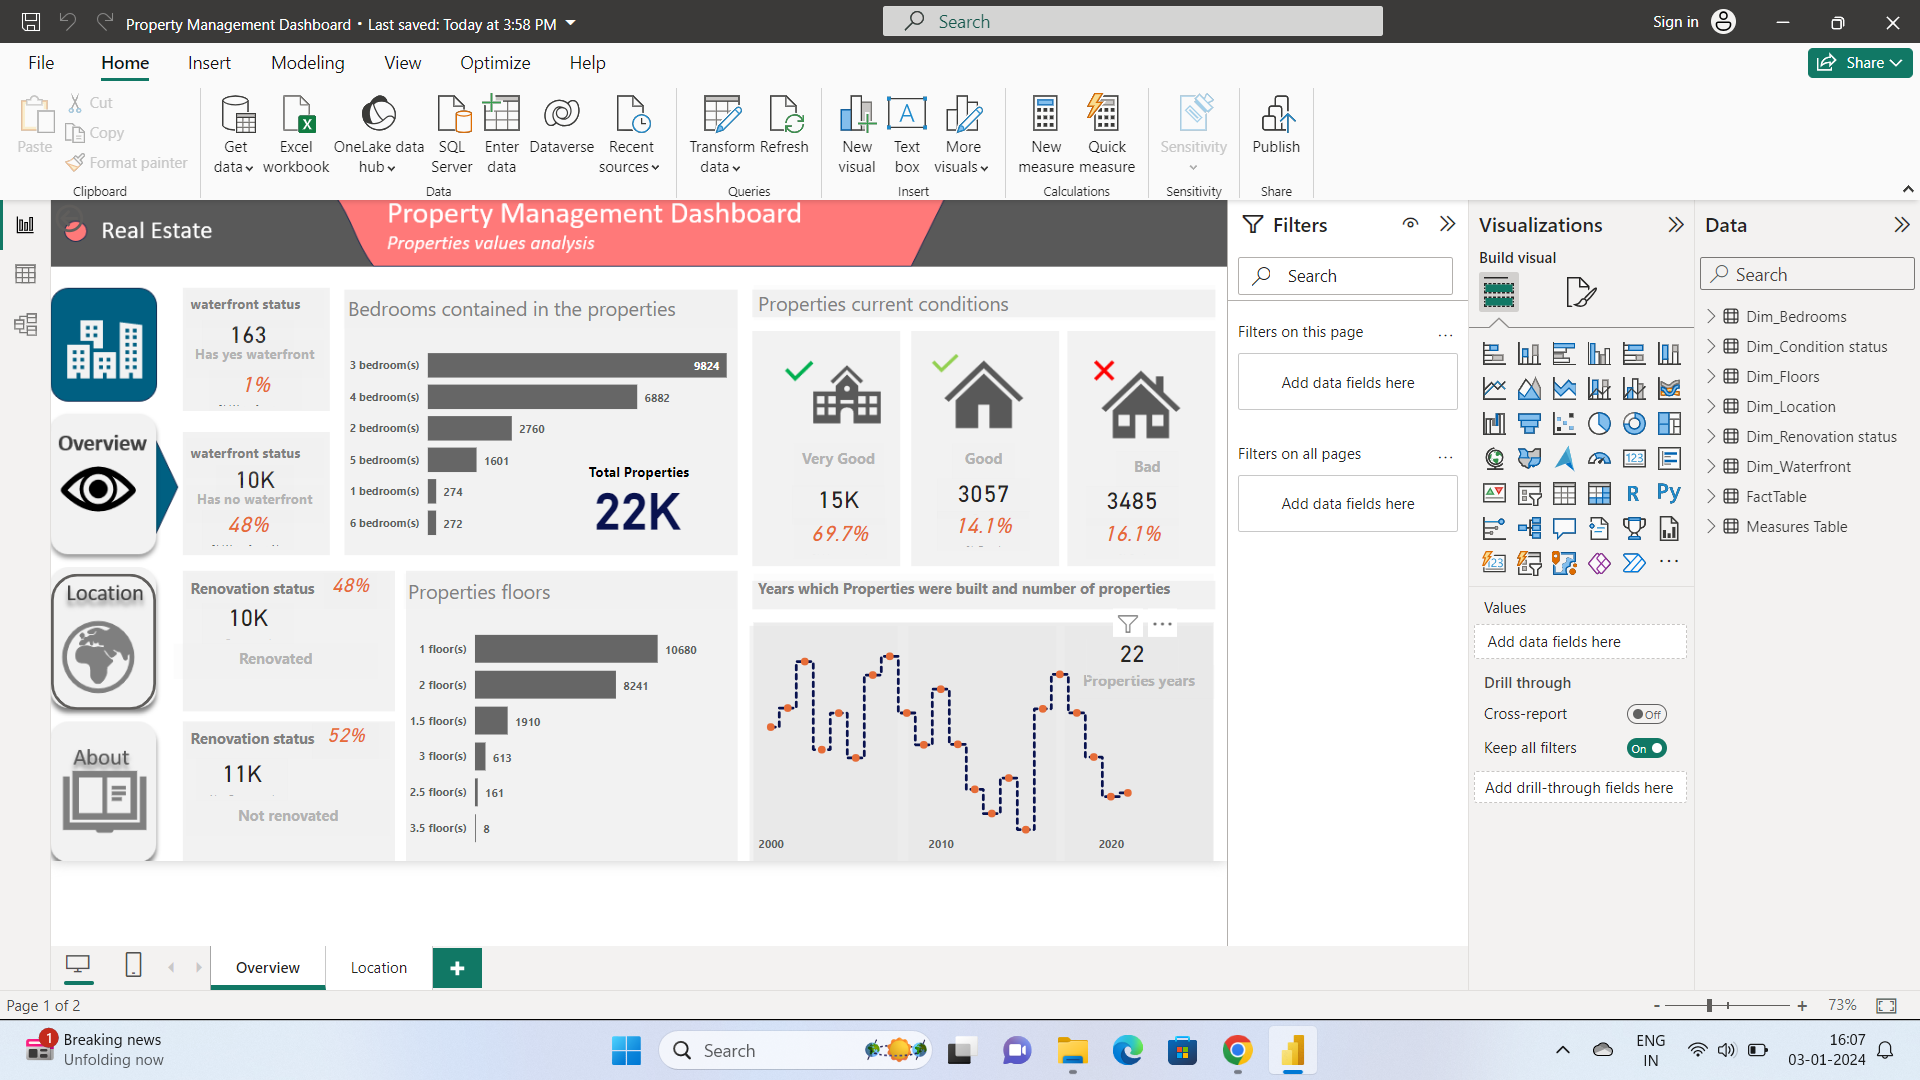

The page's visual inventory and layout, read from the dashboard file:
{"tool":"powerbi","page":{"name":"Overview","canvas":[1280,720],"ordinal":0},"visuals":[{"type":"textbox","box":[318.4,97.4,428.1,42.5],"z":0},{"type":"barChart","fields":{"Category":["Dim_Bedrooms.Bedrooms"],"Y":["Measures Table.Total Properties"]},"box":[318.4,140,428.1,244.3],"z":1000},{"type":"textbox","box":[569.5,279.9,140,30.2],"z":2000},{"type":"card","fields":{"Values":["Measures Table.Total Properties"]},"box":[550.3,279.9,177,104.3],"z":3000},{"type":"card","fields":{"Values":["Dim_Bedrooms.Waterfront yes"]},"box":[164.7,130.4,100.2,43.9],"z":4000},{"type":"actionButton","box":[0,0,100,40],"z":5000},{"type":"card","fields":{"Values":["Measures Table.Waterfront 2 yes"]},"box":[179.8,288.2,85.1,43.9],"z":6000},{"type":"textbox","box":[146.8,97.4,149.6,42.5],"z":7000},{"type":"textbox","box":[146.8,259.3,149.6,42.5],"z":8000},{"type":"textbox","box":[146.8,310.1,149.6,42.5],"z":9000},{"type":"textbox","box":[146.8,152.3,149.6,42.5],"z":10000},{"type":"card","fields":{"Values":["Measures Table.% Waterfront yes"]},"box":[172.9,185.2,100.2,43.9],"z":11000},{"type":"card","fields":{"Values":["Measures Table.% Waterfront No"]},"box":[164.7,337.6,100.2,43.9],"z":12000},{"type":"textbox","box":[146.8,406.2,222.3,38.4],"z":13000},{"type":"textbox","box":[146.8,569.5,222.3,38.4],"z":14000},{"type":"textbox","box":[133.1,483,222.3,38.4],"z":15000},{"type":"textbox","box":[146.8,653.2,222.3,38.4],"z":16000},{"type":"card","fields":{"Values":["Measures Table.Renovated"]},"box":[164.7,437.7,100.2,45.3],"z":17000},{"type":"card","fields":{"Values":["Measures Table.Not Renovated"]},"box":[157.8,607.9,100.2,45.3],"z":18000},{"type":"card","fields":{"Values":["Measures Table.% Renovated"]},"box":[296.4,406.2,59,38.4],"z":19000},{"type":"card","fields":{"Values":["Measures Table.% Not Renovated"]},"box":[284,569.5,72.7,38.4],"z":20000},{"type":"textbox","box":[384.2,406.2,362.3,38.4],"z":21000},{"type":"barChart","fields":{"Y":["Measures Table.Total Properties"],"Category":["Dim_Floors.Floors"]},"box":[384.2,444.6,362.3,275.8],"z":22000},{"type":"textbox","box":[764.3,91.9,502.2,38.4],"z":23000},{"type":"textbox","box":[808.2,265.3,98,46.3],"z":24000},{"type":"textbox","box":[981,265.3,68,38.1],"z":25000},{"type":"textbox","box":[1159.2,273.5,68,38.1],"z":26000},{"type":"card","fields":{"Values":["Measures Table.Very good"]},"box":[806.8,310.2,100.7,43.5],"z":27000},{"type":"card","fields":{"Values":["Measures Table.Bad"]},"box":[1126.5,311.6,100.7,43.5],"z":28000},{"type":"card","fields":{"Values":["Measures Table.Good"]},"box":[964.6,303.4,100.7,43.5],"z":29000},{"type":"card","fields":{"Values":["Measures Table.% Very good"]},"box":[808.2,346.9,100.7,43.5],"z":30000},{"type":"card","fields":{"Values":["Measures Table.% Good"]},"box":[964.6,338.8,100.7,43.5],"z":31000},{"type":"card","fields":{"Values":["Measures Table.% Bad"]},"box":[1126.5,346.9,100.7,43.5],"z":32000},{"type":"textbox","box":[764.6,406.8,500.7,38.1],"z":33000},{"type":"lineChart","fields":{"Y":["Measures Table.Total Properties"],"Category":["FactTable.yr_built"]},"box":[764.6,459.9,500.7,259.9],"z":34000},{"type":"textbox","box":[1118.4,506.1,148.3,36.7],"z":35000},{"type":"card","fields":{"Values":["Measures Table.Properties years"]},"box":[1126.5,477.6,100.7,43.5],"z":36000},{"type":"actionButton","box":[0,406.8,114.3,148.3],"z":36002}]}

Visuals, with their boxes on the page's 1280x720 design canvas (x1, y1, x2, y2). These are canvas units, not pixel positions in the 1920x1080 screenshot, which may show the page scaled, cropped or inside an application window:
textbox: pyautogui.locateOnScreen(318, 97, 746, 140)
barChart - Dim_Bedrooms.Bedrooms x Measures Table.Total Properties: pyautogui.locateOnScreen(318, 140, 746, 384)
textbox: pyautogui.locateOnScreen(570, 280, 710, 310)
card - Measures Table.Total Properties: pyautogui.locateOnScreen(550, 280, 727, 384)
card - Dim_Bedrooms.Waterfront yes: pyautogui.locateOnScreen(165, 130, 265, 174)
actionButton: pyautogui.locateOnScreen(0, 0, 100, 40)
card - Measures Table.Waterfront 2 yes: pyautogui.locateOnScreen(180, 288, 265, 332)
textbox: pyautogui.locateOnScreen(147, 97, 296, 140)
textbox: pyautogui.locateOnScreen(147, 259, 296, 302)
textbox: pyautogui.locateOnScreen(147, 310, 296, 353)
textbox: pyautogui.locateOnScreen(147, 152, 296, 195)
card - Measures Table.% Waterfront yes: pyautogui.locateOnScreen(173, 185, 273, 229)
card - Measures Table.% Waterfront No: pyautogui.locateOnScreen(165, 338, 265, 382)
textbox: pyautogui.locateOnScreen(147, 406, 369, 445)
textbox: pyautogui.locateOnScreen(147, 570, 369, 608)
textbox: pyautogui.locateOnScreen(133, 483, 355, 521)
textbox: pyautogui.locateOnScreen(147, 653, 369, 692)
card - Measures Table.Renovated: pyautogui.locateOnScreen(165, 438, 265, 483)
card - Measures Table.Not Renovated: pyautogui.locateOnScreen(158, 608, 258, 653)
card - Measures Table.% Renovated: pyautogui.locateOnScreen(296, 406, 355, 445)
card - Measures Table.% Not Renovated: pyautogui.locateOnScreen(284, 570, 357, 608)
textbox: pyautogui.locateOnScreen(384, 406, 746, 445)
barChart - Measures Table.Total Properties x Dim_Floors.Floors: pyautogui.locateOnScreen(384, 445, 746, 720)
textbox: pyautogui.locateOnScreen(764, 92, 1266, 130)
textbox: pyautogui.locateOnScreen(808, 265, 906, 312)
textbox: pyautogui.locateOnScreen(981, 265, 1049, 303)
textbox: pyautogui.locateOnScreen(1159, 274, 1227, 312)
card - Measures Table.Very good: pyautogui.locateOnScreen(807, 310, 908, 354)
card - Measures Table.Bad: pyautogui.locateOnScreen(1126, 312, 1227, 355)
card - Measures Table.Good: pyautogui.locateOnScreen(965, 303, 1065, 347)
card - Measures Table.% Very good: pyautogui.locateOnScreen(808, 347, 909, 390)
card - Measures Table.% Good: pyautogui.locateOnScreen(965, 339, 1065, 382)
card - Measures Table.% Bad: pyautogui.locateOnScreen(1126, 347, 1227, 390)
textbox: pyautogui.locateOnScreen(765, 407, 1265, 445)
lineChart - Measures Table.Total Properties x FactTable.yr_built: pyautogui.locateOnScreen(765, 460, 1265, 720)
textbox: pyautogui.locateOnScreen(1118, 506, 1267, 543)
card - Measures Table.Properties years: pyautogui.locateOnScreen(1126, 478, 1227, 521)
actionButton: pyautogui.locateOnScreen(0, 407, 114, 555)
